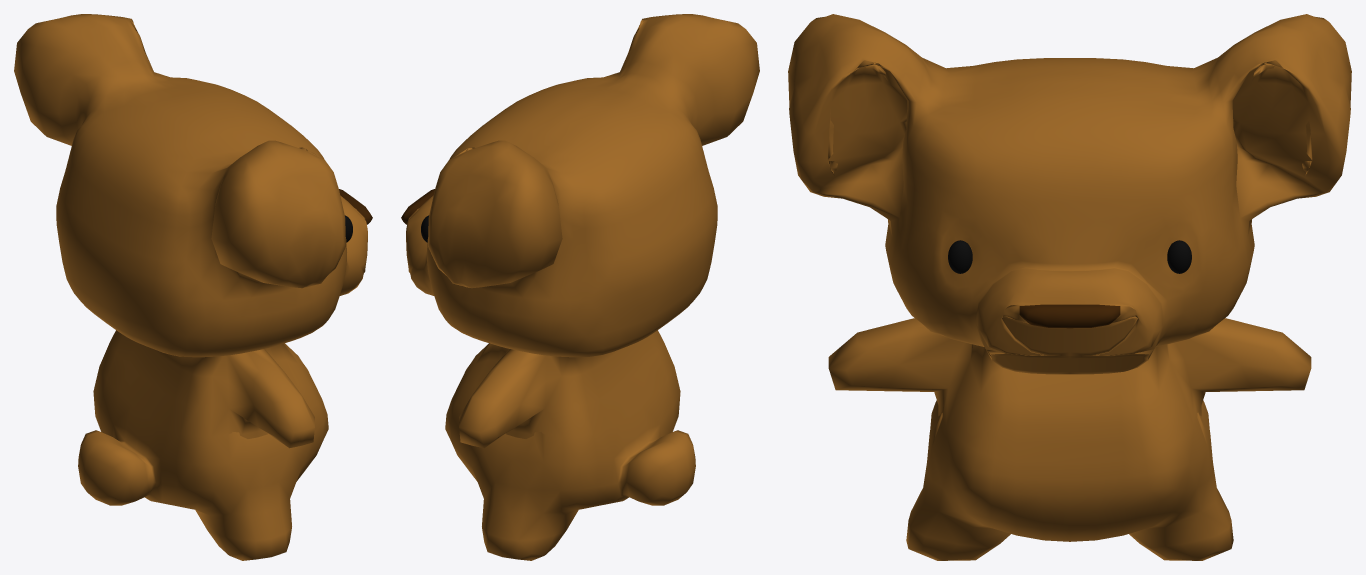
File: toyteddy.fbx
3 renders of one model, left to right at view 1: azimuth 30°, elevation 25°; view 2: azimuth 150°, elevation 25°; view 3: azimuth 270°, elevation 25°, orthographic. The views are drawn at different scales.
Parts seen in each view (by area): view 1: Teddy; view 2: Teddy; view 3: Teddy.
Part boxes in pixels (left/top/right/bottom): Teddy: left=14, top=14, right=372, bottom=560; Teddy: left=401, top=14, right=759, bottom=560; Teddy: left=788, top=14, right=1351, bottom=560.
Bounding box in the file's own units: 1.88 × 2.89 × 2.87.
